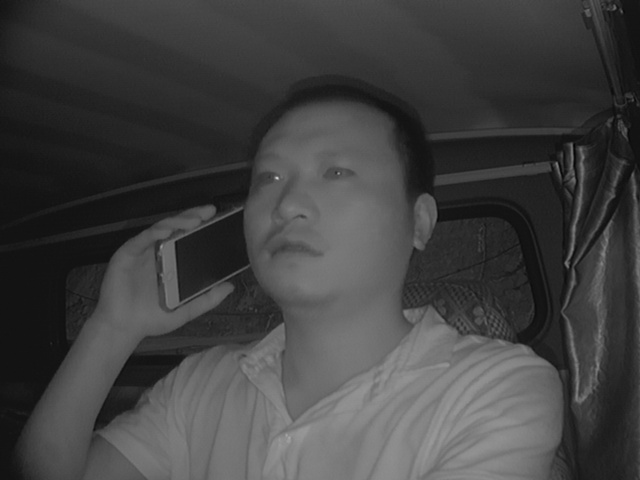hand: (112, 202, 234, 332)
